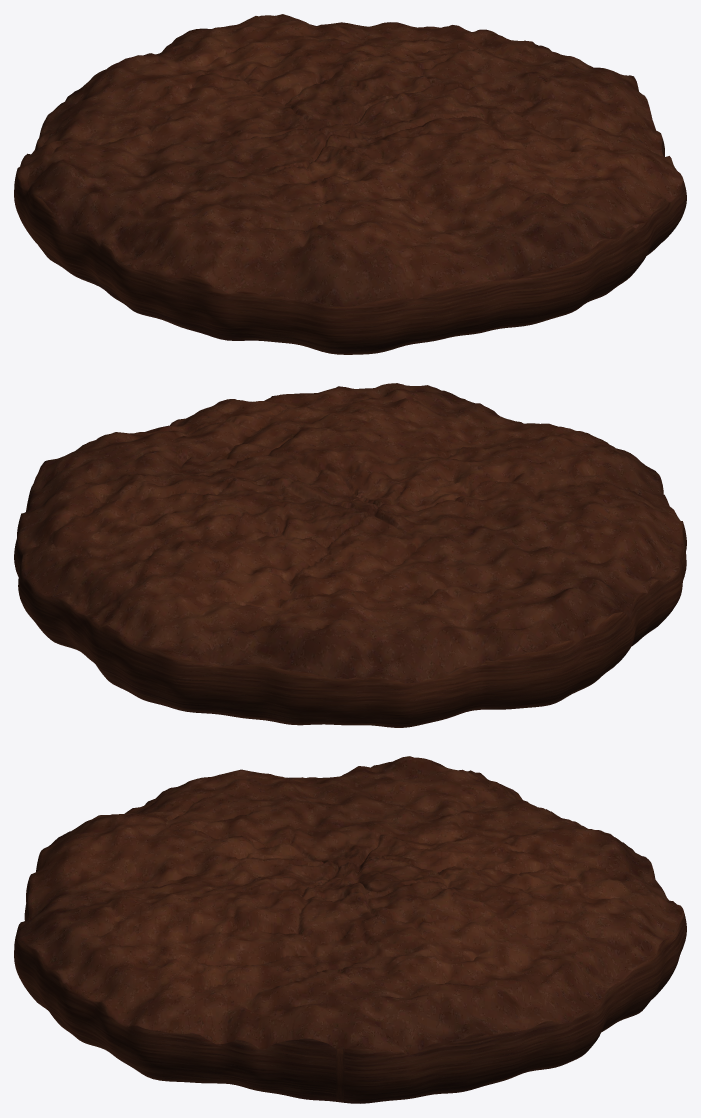
File: cocoa.glb
The picture shows the model from 3 angles, top to bottom: view 1: azimuth 30°, elevation 25°; view 2: azimuth 150°, elevation 25°; view 3: azimuth 270°, elevation 25°; orthographic projection. The views are drawn at different scales.
Parts seen in each view (by area): view 1: Builder dough | cocoa; view 2: Builder dough | cocoa; view 3: Builder dough | cocoa.
Part boxes in pixels (<box>): Builder dough | cocoa: <box>14,14,686,354</box>; Builder dough | cocoa: <box>14,383,686,727</box>; Builder dough | cocoa: <box>14,756,686,1103</box>.
Bounding box in the file's own units: 4.99 × 0.8773 × 4.98.
2 materials, 2 textured.
